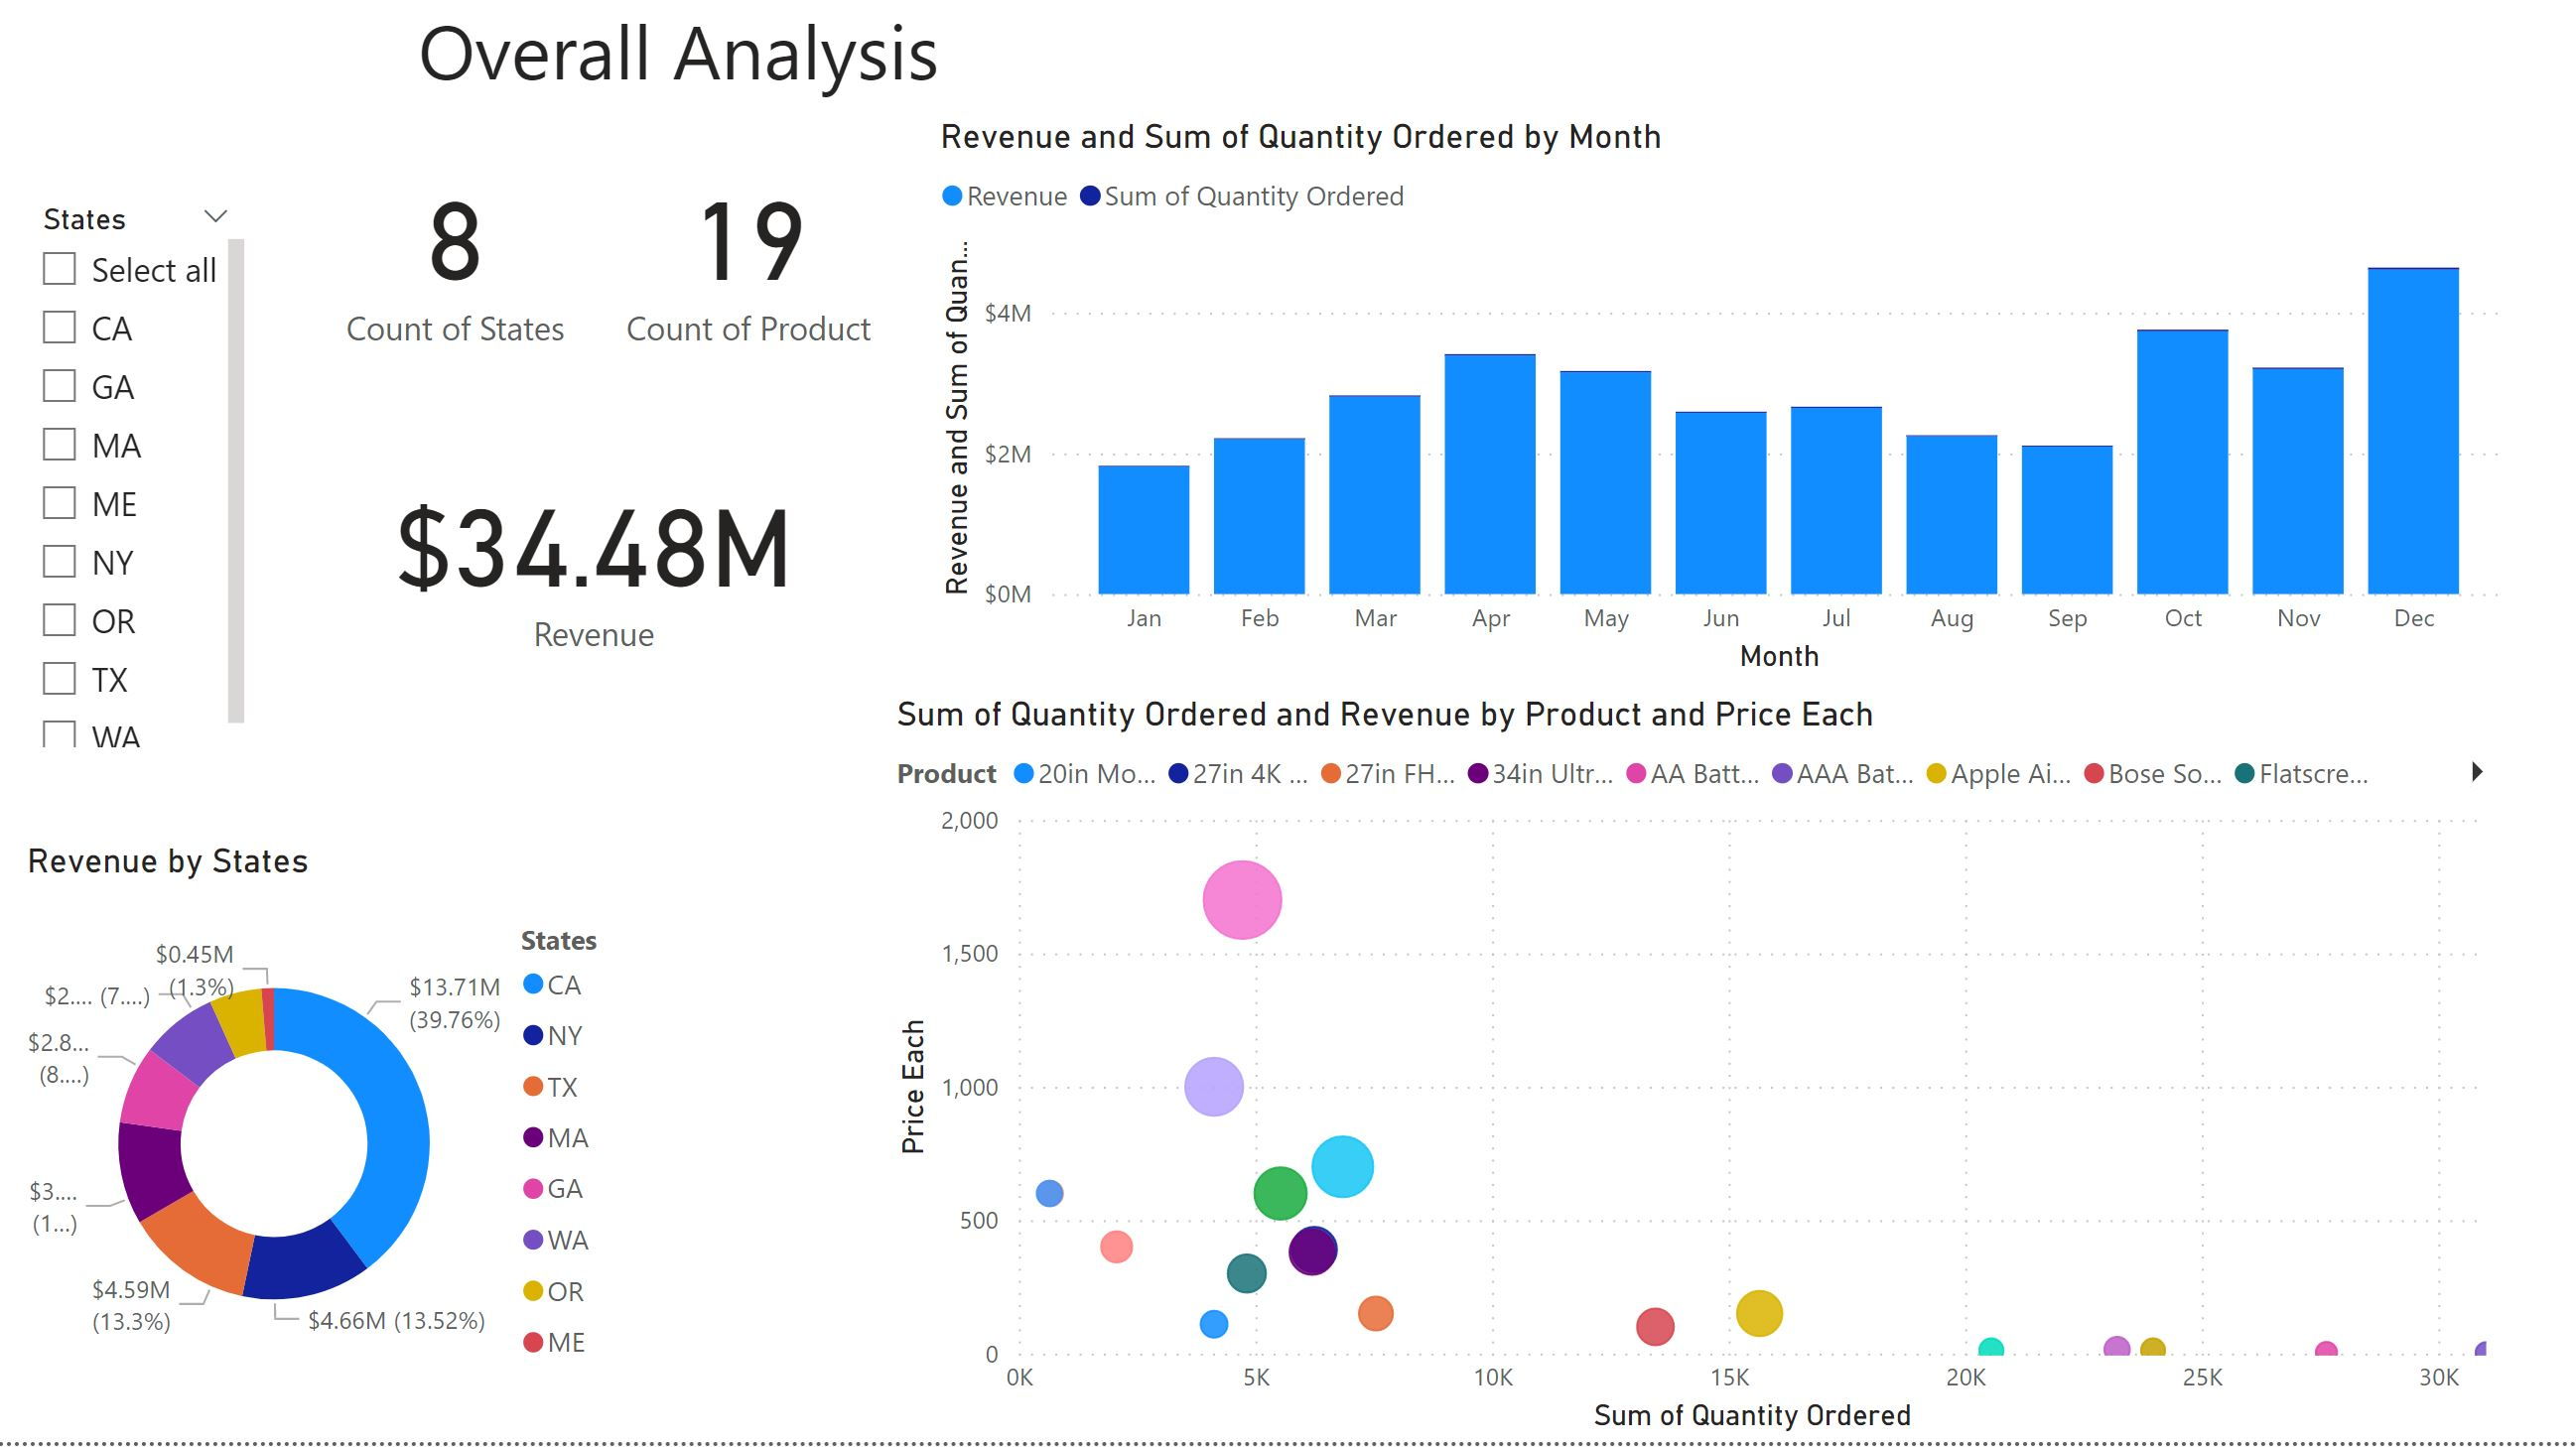

This screenshot's page, from the dashboard's own definition file:
{"tool":"powerbi","page":{"name":"Overview","canvas":[1280,720],"ordinal":0},"visuals":[{"type":"map","fields":{"Category":["sales_data.City"],"Size":["sales_data.Revenue"],"Series":["sales_data.States"]},"box":[11.2,401.2,411.2,318.8],"z":0},{"type":"scatterChart","fields":{"Y":["sales_data.Price Each"],"Series":["sales_data.Product"],"Size":["sales_data.Revenue"],"X":["Sum(sales_data.Quantity Ordered)"]},"box":[441.2,350,806.2,370],"z":1000},{"type":"slicer","fields":{"Values":["sales_data.States"]},"box":[10.8,100.8,117.5,280],"z":2000},{"type":"columnChart","fields":{"Category":["Date.Month"],"Y":["sales_data.Revenue","Sum(sales_data.Quantity Ordered)"]},"box":[462.5,63.8,785,280],"z":3000},{"type":"textbox","box":[170,0,336.7,64.2],"z":4000},{"type":"donutChart","fields":{"Y":["sales_data.Revenue"],"Category":["sales_data.States"]},"box":[128.8,80,312.5,280],"z":5000}]}

Visuals, with their boxes in screenshot pixels (x1, y1, x2, y2), scaled from the page's 1280x720 canvas onto the 2576x1447 screenshot:
map - sales_data.City x sales_data.Revenue: (x1=23, y1=806, x2=850, y2=1446)
scatterChart - sales_data.Price Each x sales_data.Product: (x1=887, y1=704, x2=2510, y2=1446)
slicer - sales_data.States: (x1=22, y1=202, x2=258, y2=765)
columnChart - Date.Month x sales_data.Revenue: (x1=931, y1=128, x2=2510, y2=691)
textbox: (x1=342, y1=0, x2=1019, y2=129)
donutChart - sales_data.Revenue x sales_data.States: (x1=259, y1=161, x2=888, y2=723)
